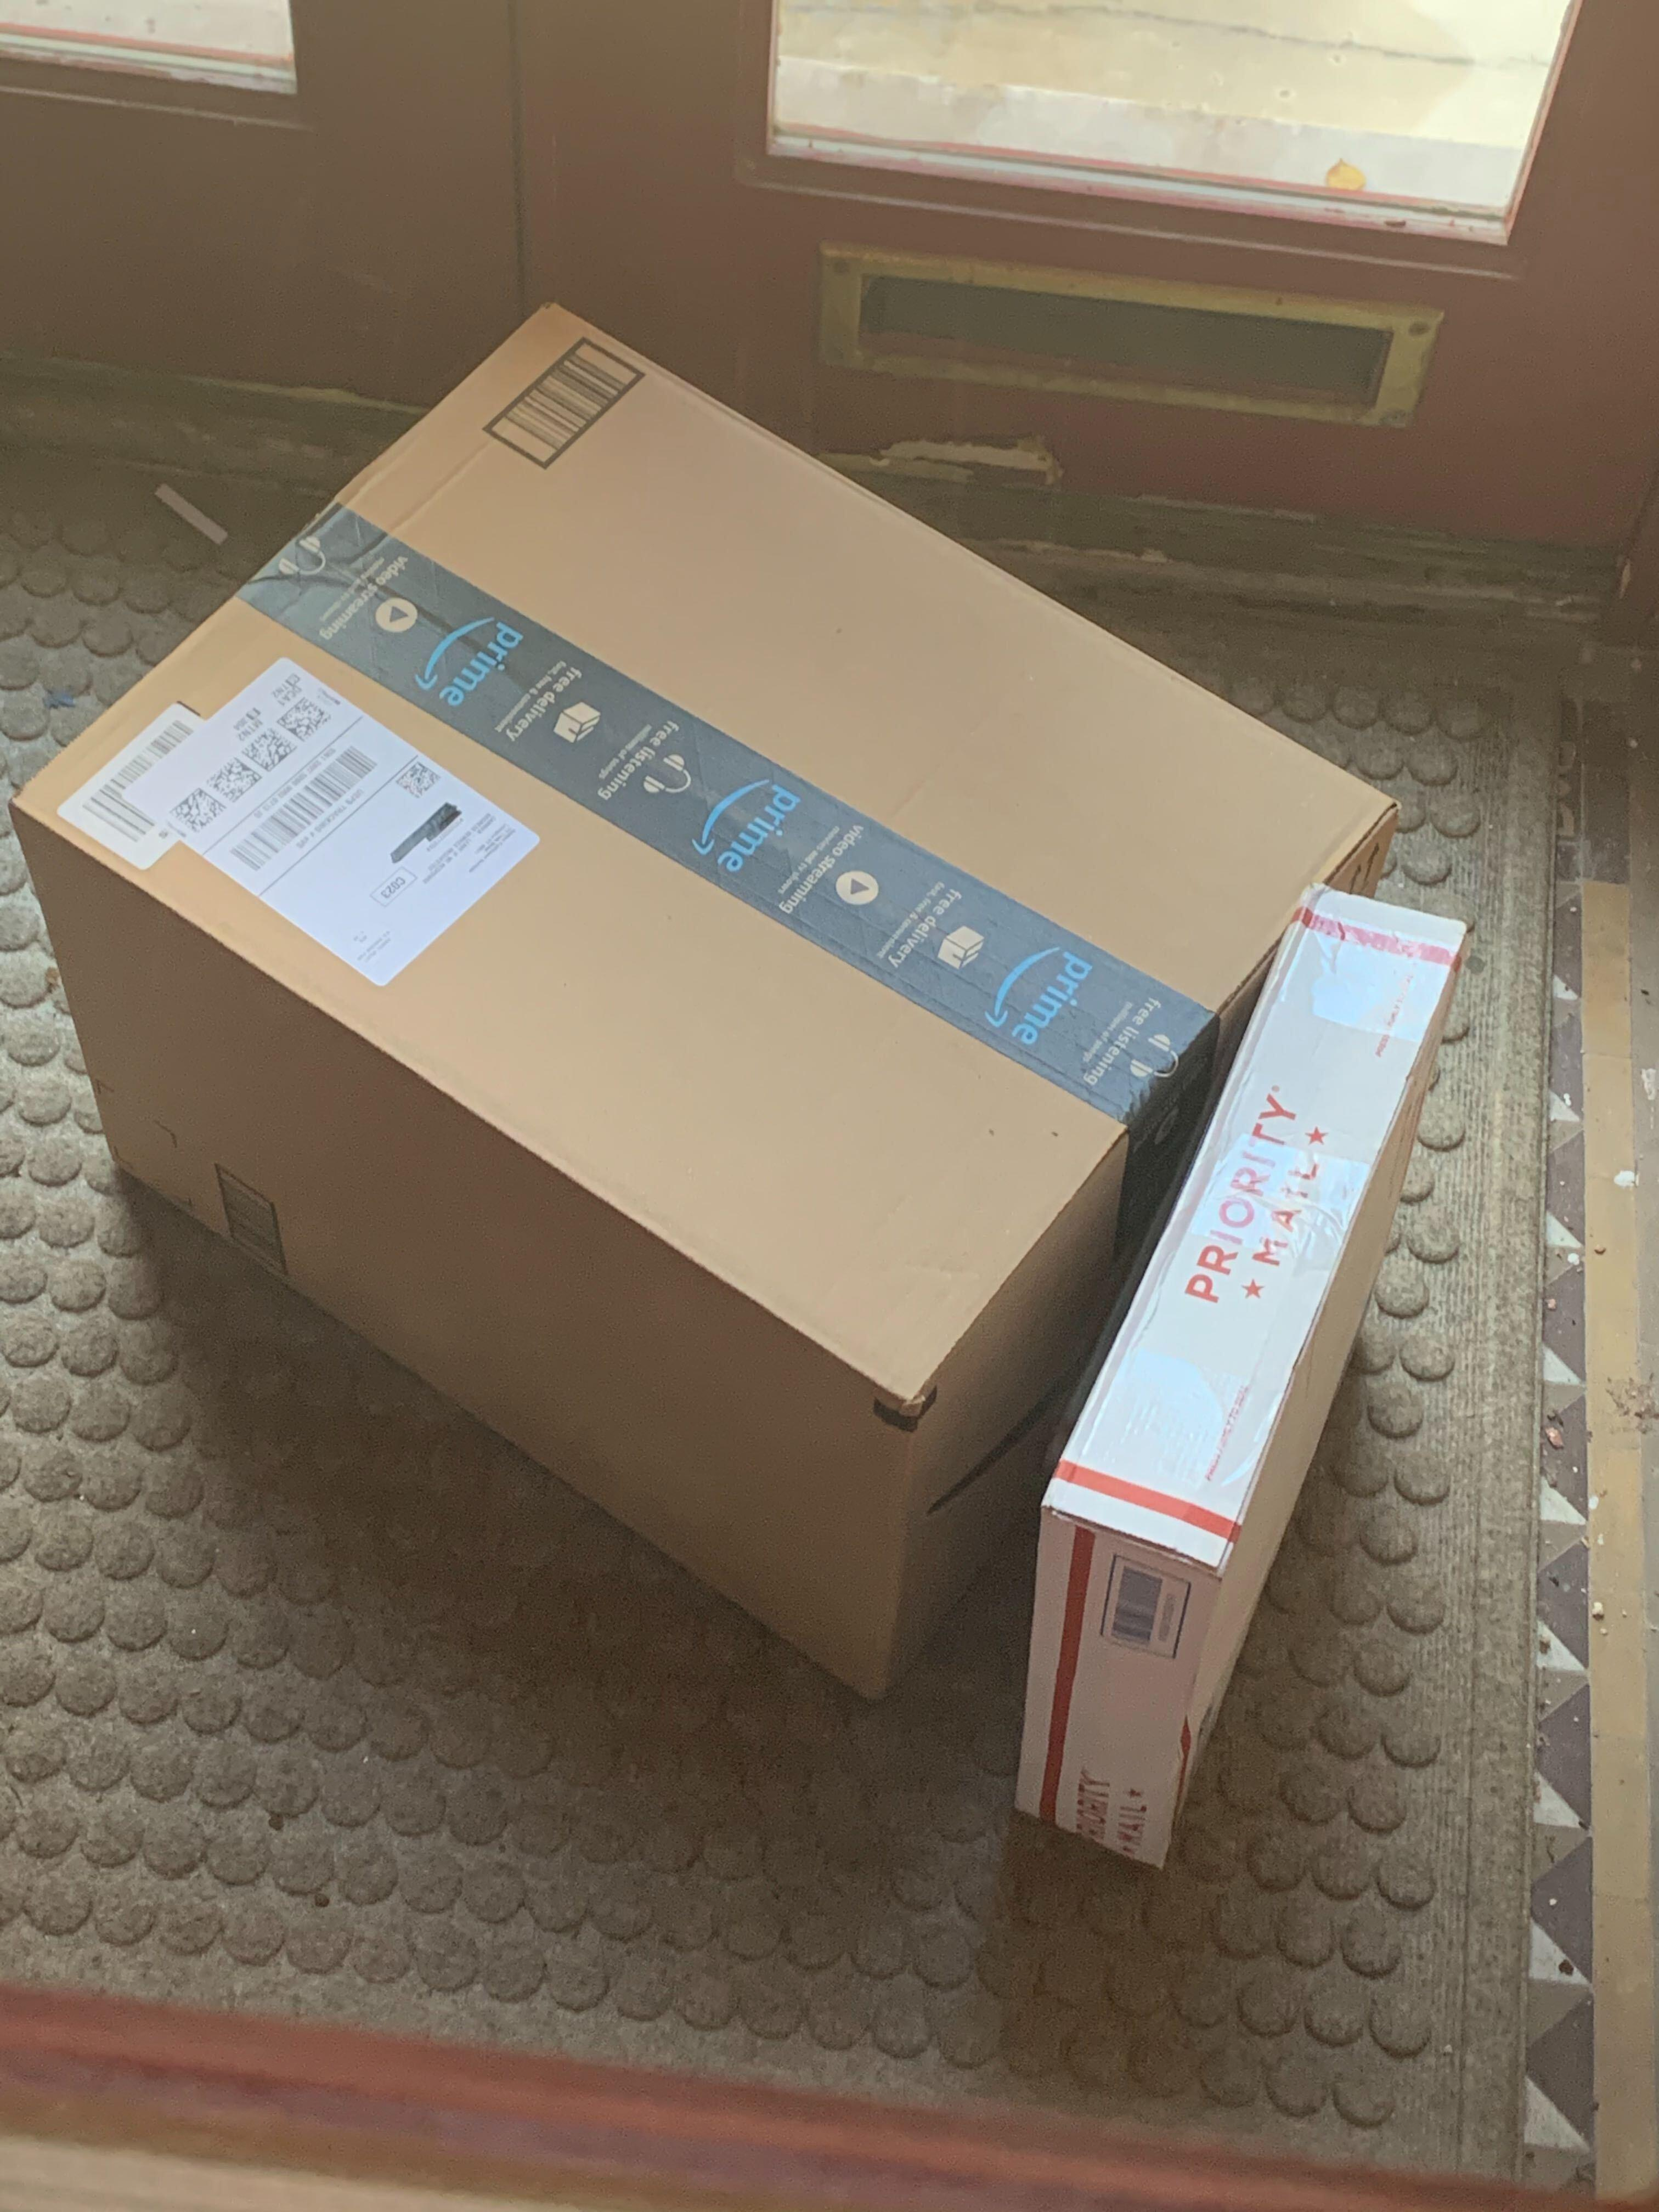package: (9, 303, 1401, 1707), (1016, 887, 1474, 1867)
